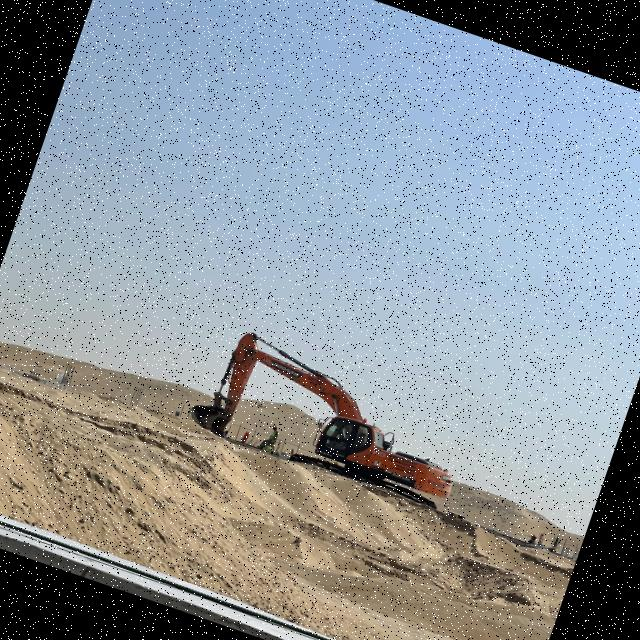Excavator: (182, 316, 479, 518)
